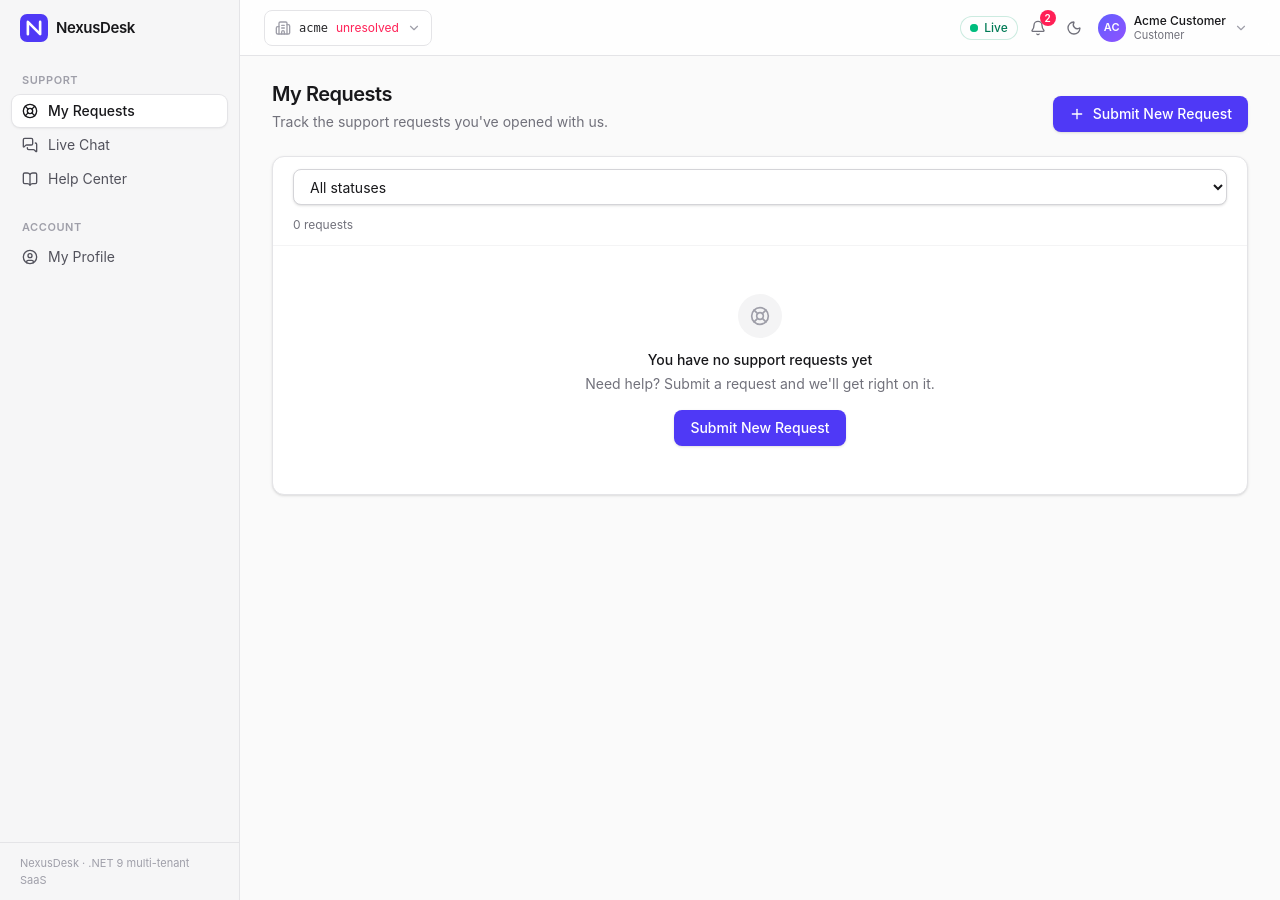
Test case: Notifications bell › shows the unread badge, marks one read, then marks all read
This screenshot has width=1280, height=900.
Expected: the text with test id "notification-badge" reads "2", [1045,12,1051,24]
Click the button named "Notifications, 2 unread" at (1038, 28), box [1022,12,1054,44]
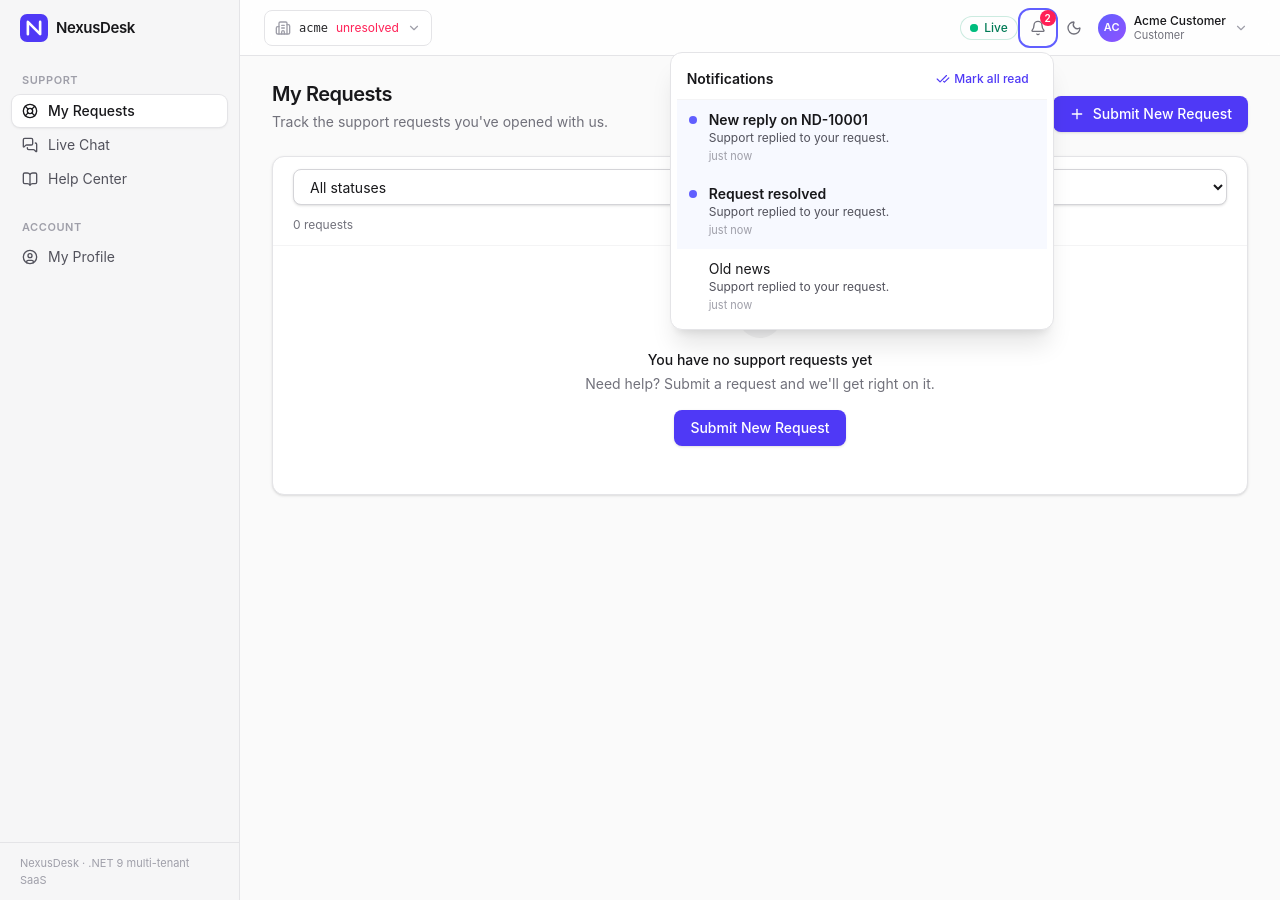
Click the button with test id "notification-n-2" at (862, 211), box [677,174,1047,248]
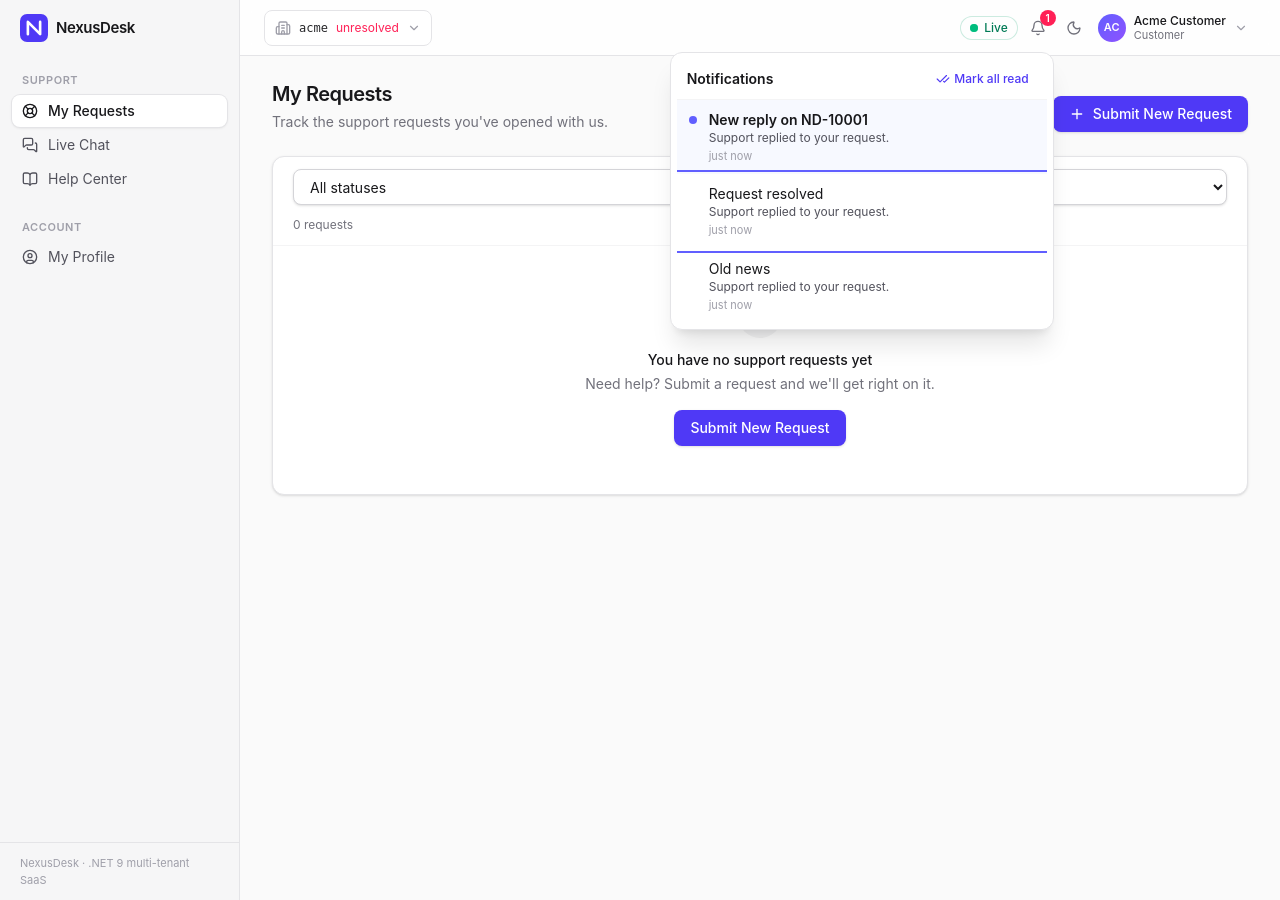
Expected: the text with test id "notification-badge" reads "1", [1046,12,1050,24]
Click the button "Mark all read" at (982, 78), box [928,66,1037,90]
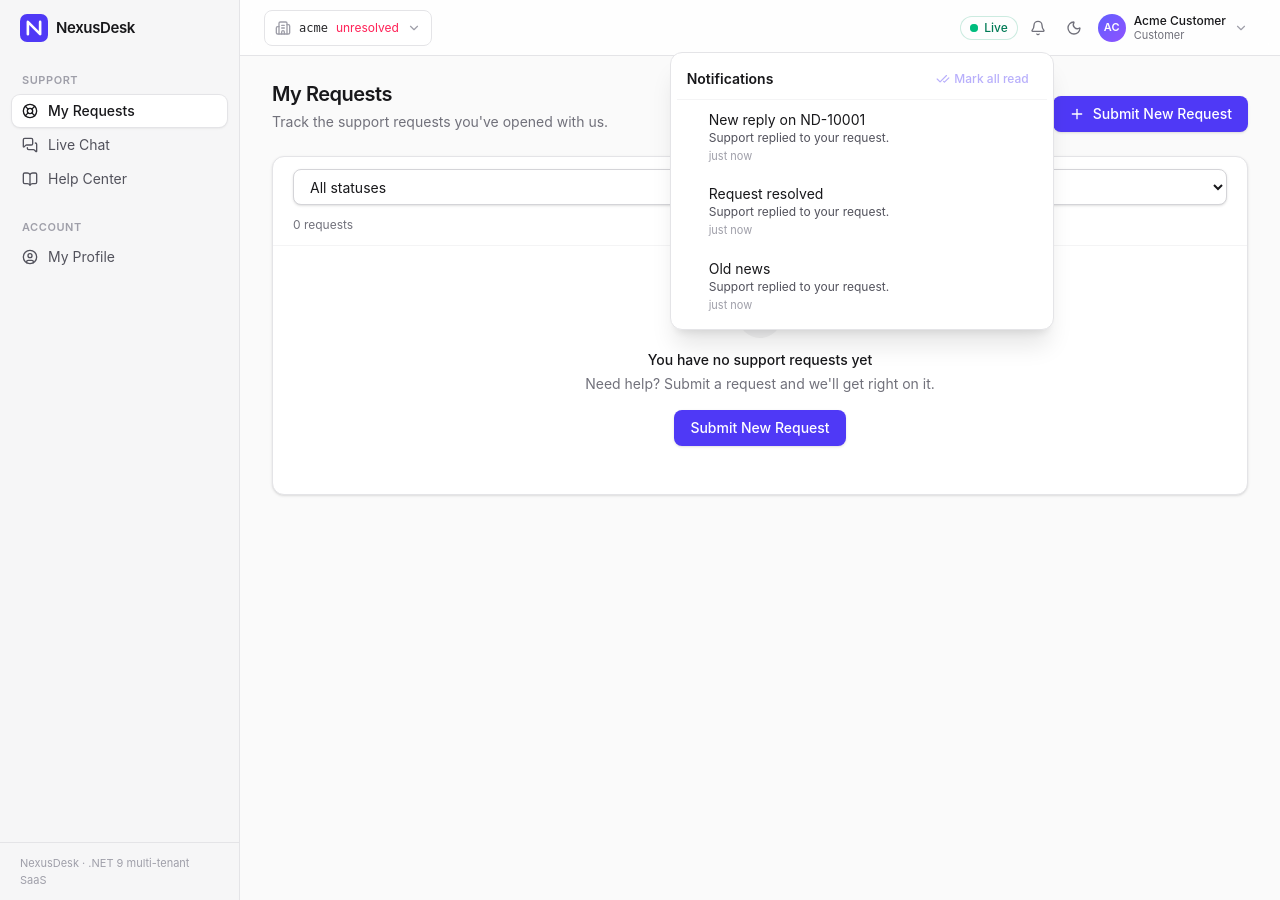
Expected: the text with test id "notification-badge" is gone
